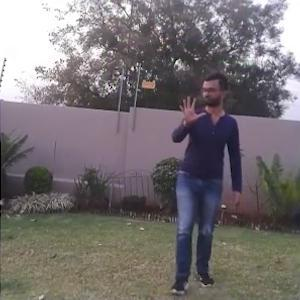follow_hand: (176, 90, 207, 126)
